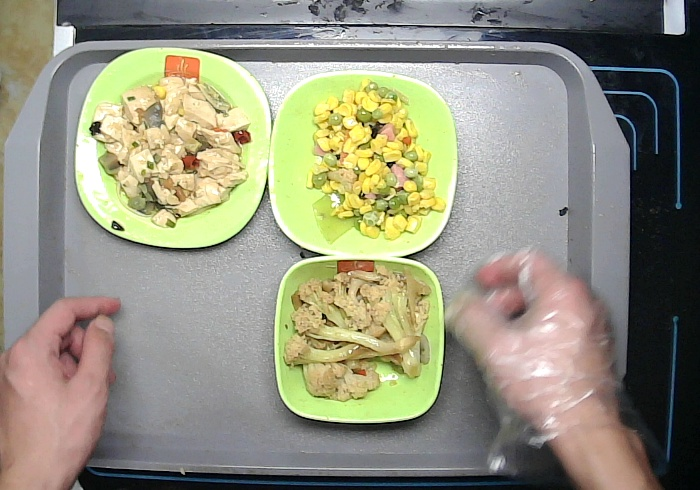SHKJ-Lv_Se_Cai_Die: (265, 67, 462, 262)
SHKJ-Lv_Se_Si_Fang_Cai_Die: (71, 45, 275, 253)
SHKJ-Lv_Se_Xiao_Fang_Die: (269, 253, 448, 430)
